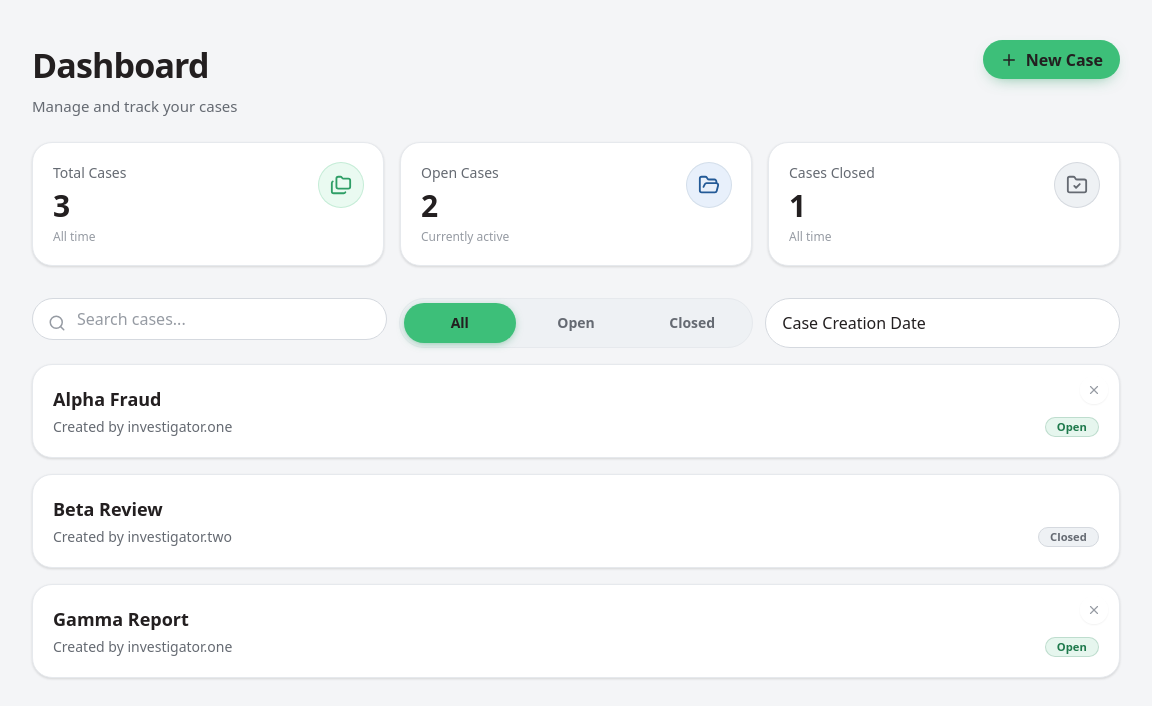
Test: Dashboard (integration) › creates a new case and shows it in the list after refresh
Click the button "New Case".
click(1051, 60)  # box [983, 40, 1120, 79]
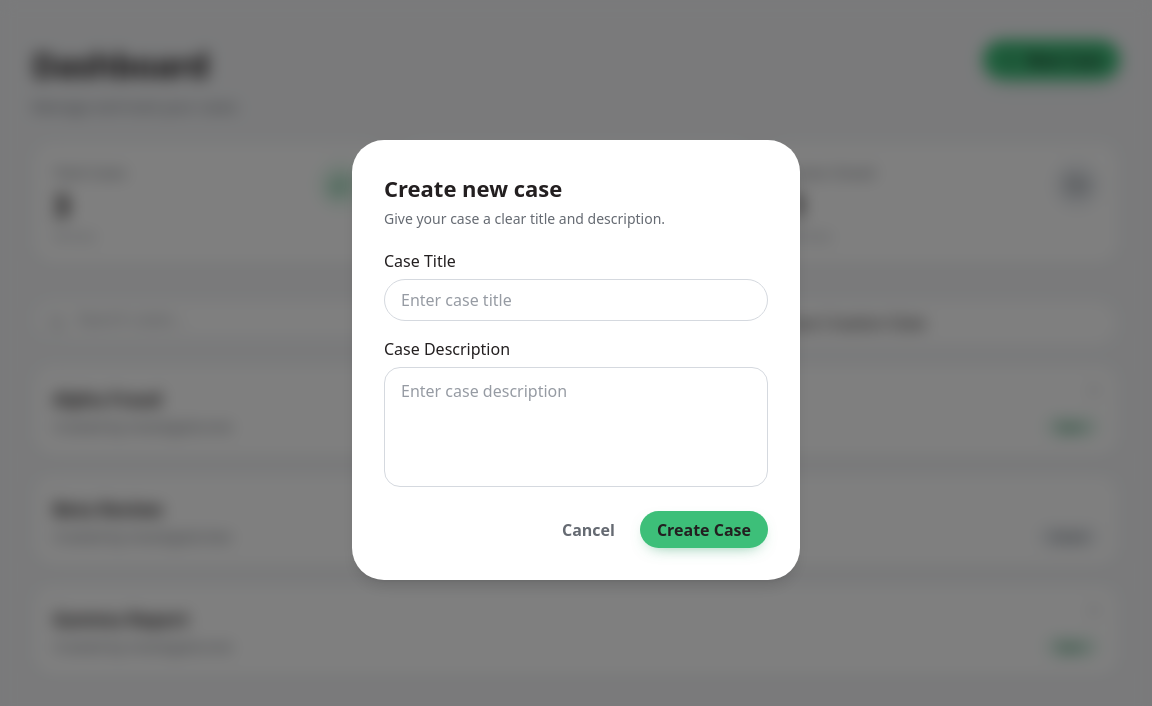
Type "Delta Investigation" into the field with placeholder "Enter case title".
click(576, 300); type("Delta Investigation")  # box [384, 279, 768, 321]
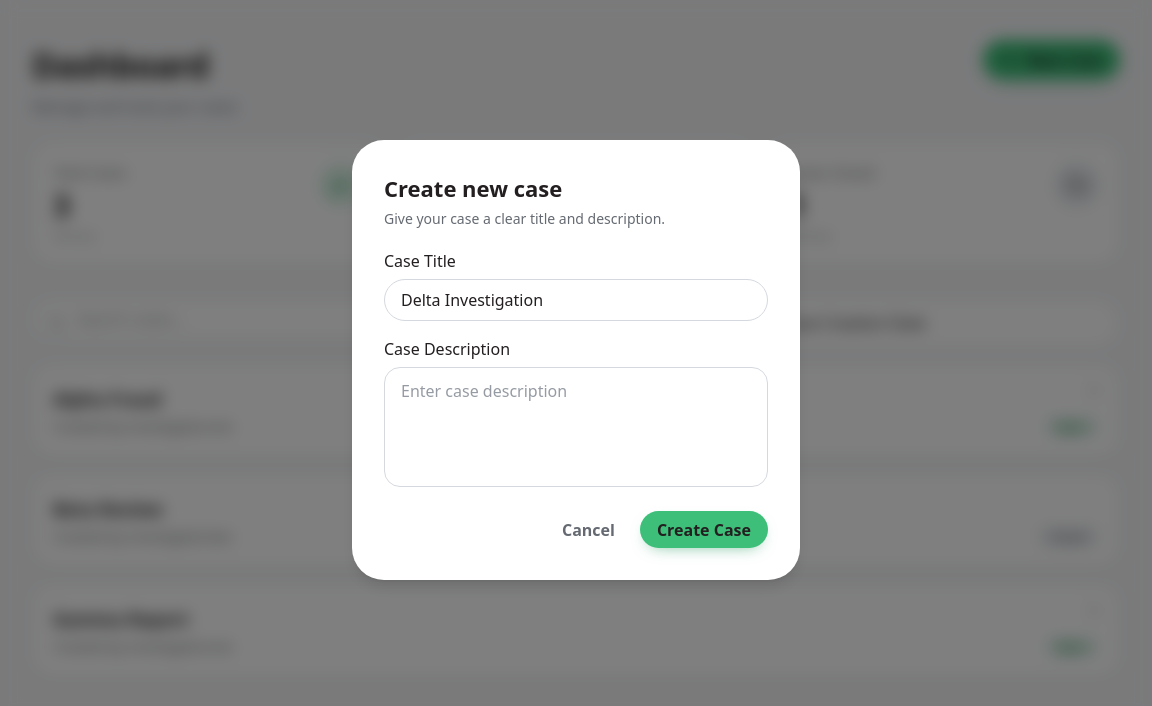
Type "New lead" into the text box with placeholder "Enter case description".
click(576, 427); type("New lead")  # box [384, 367, 768, 487]
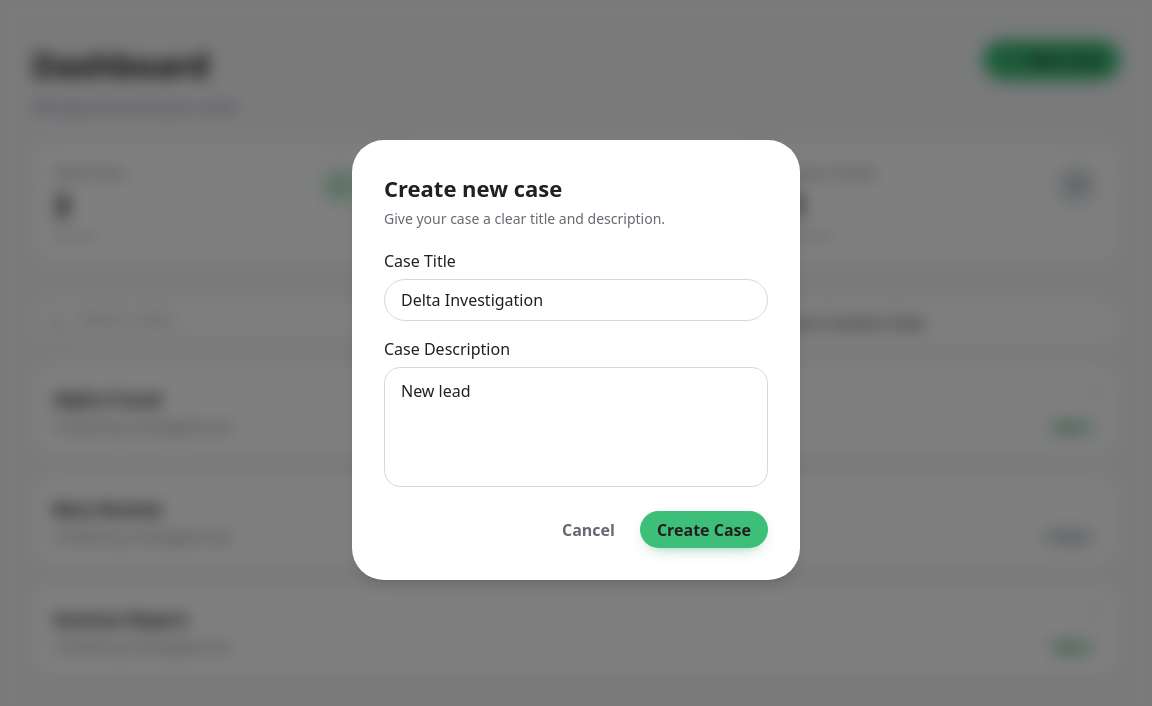
Click the button "Create Case".
click(704, 530)  # box [640, 511, 768, 548]
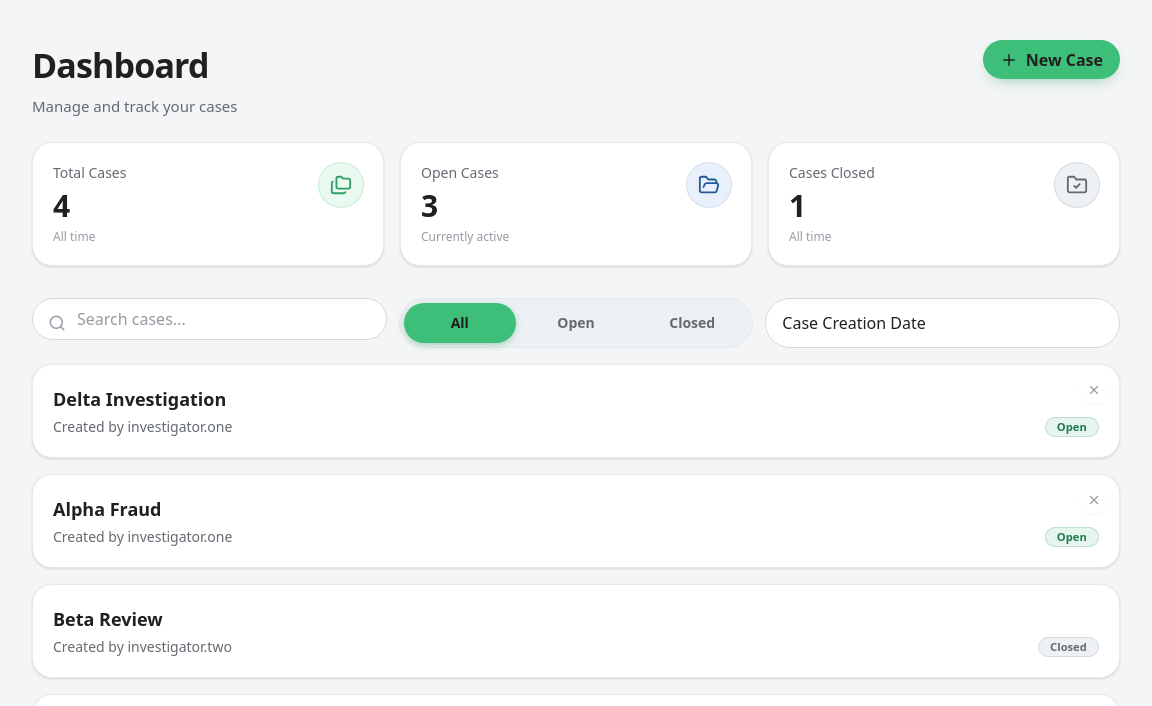
Expected: the text "Delta Investigation" is shown, [53, 384, 232, 412]
